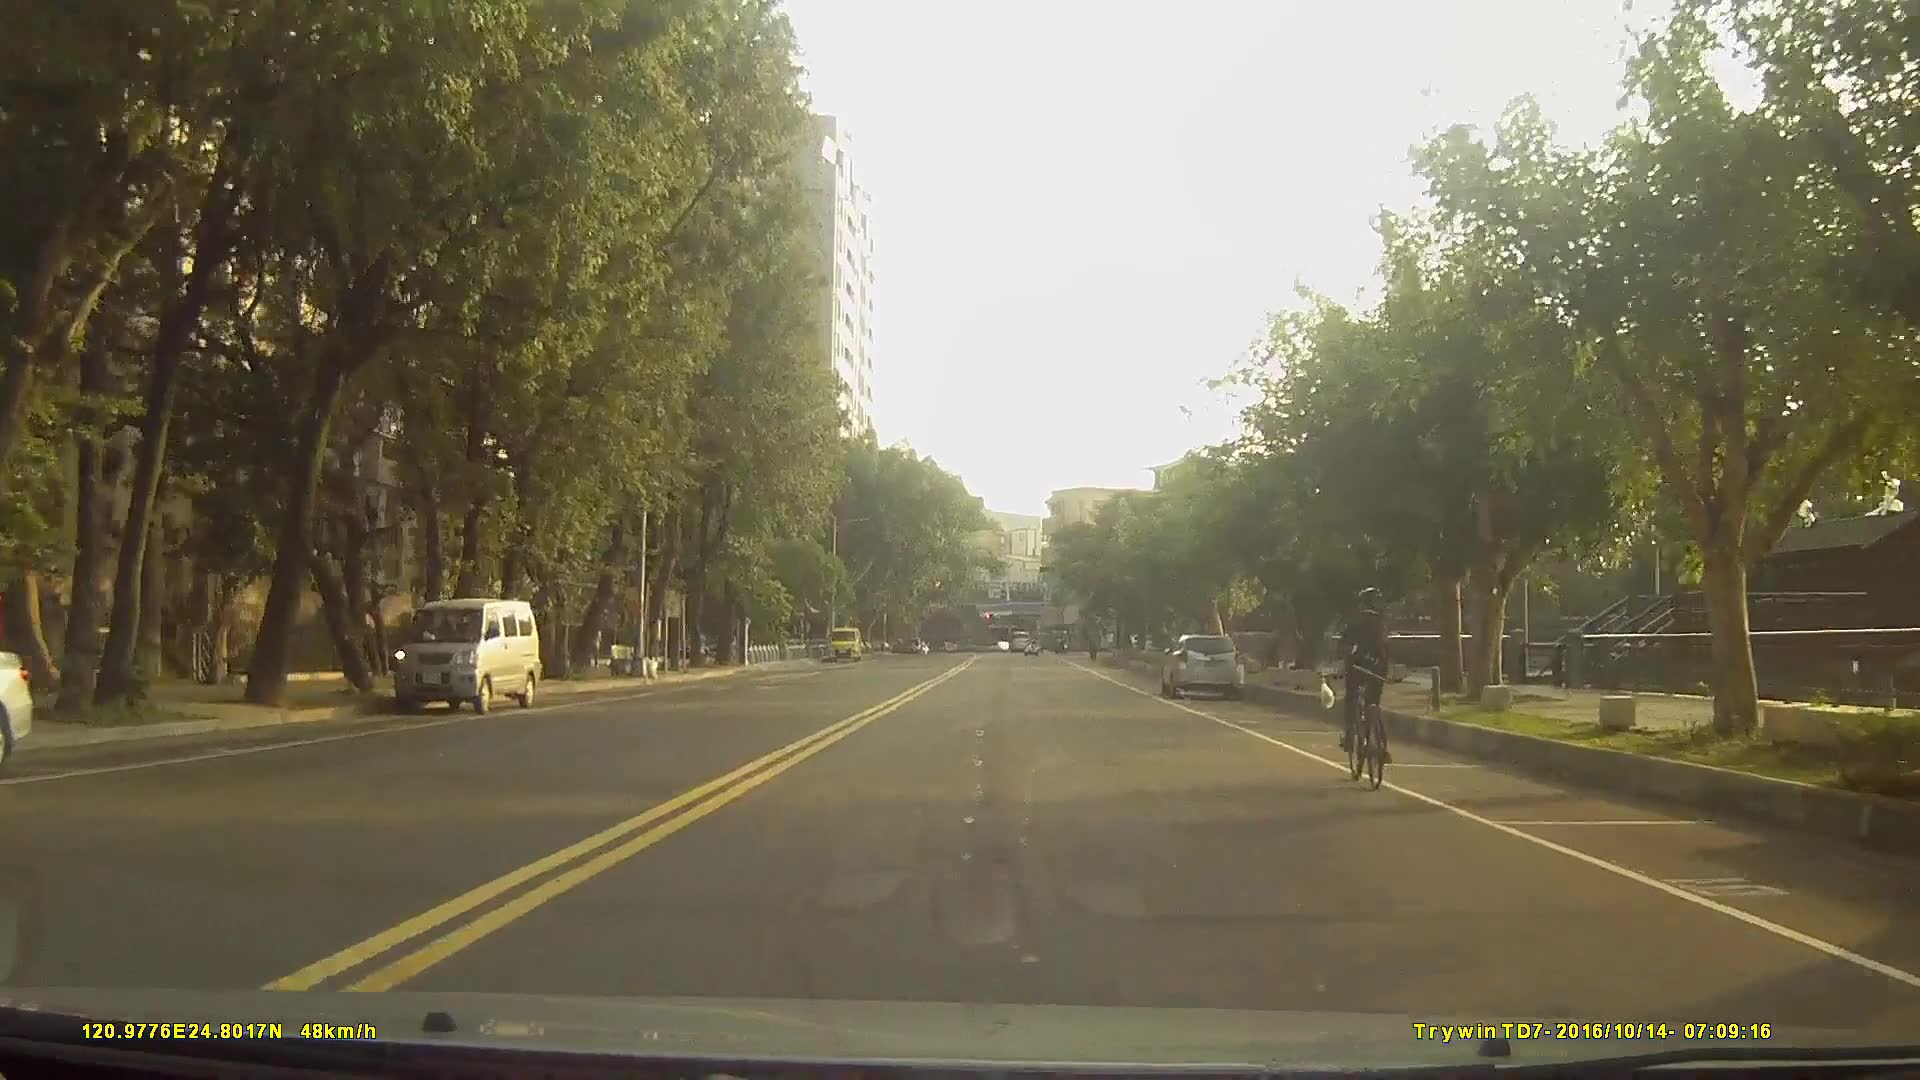rider: (1334, 585, 1390, 785)
vehicle: (394, 594, 540, 713), (1161, 630, 1245, 699), (1006, 624, 1031, 650)
